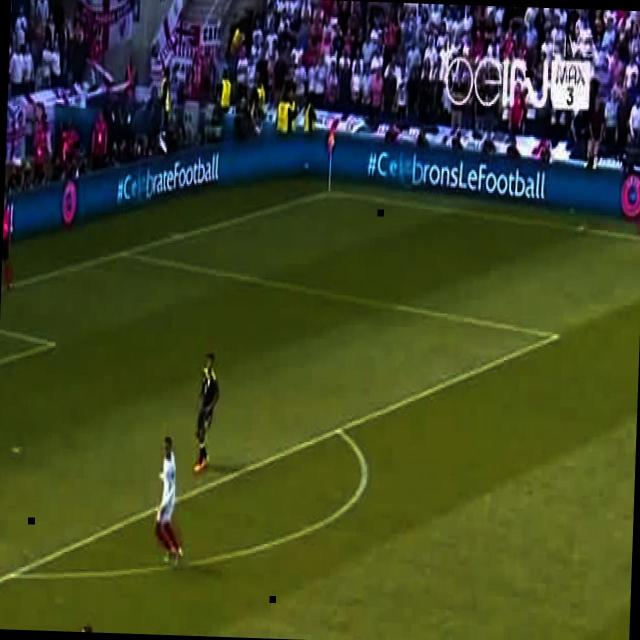player-white: (153, 434, 185, 569), (193, 351, 220, 474), (1, 196, 11, 292), (77, 622, 110, 633)
